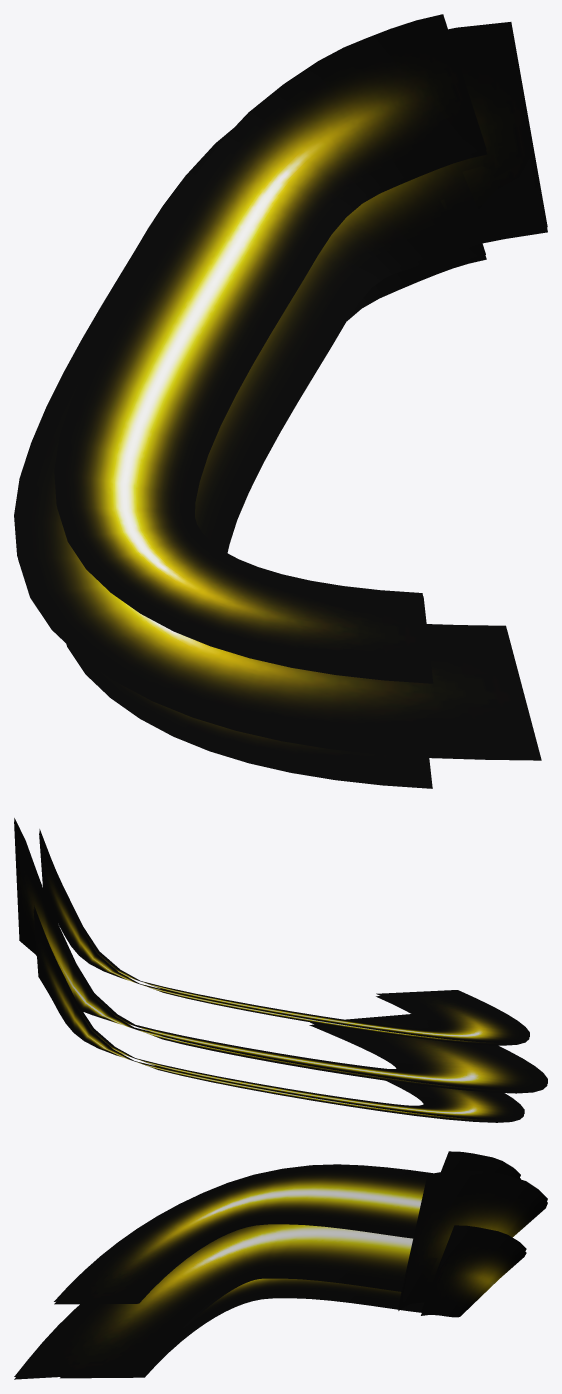
The model's file is effect_baihu_bb_1.FBX.
The picture shows the model from 3 angles, top to bottom: view 1: azimuth 30°, elevation 25°; view 2: azimuth 150°, elevation 25°; view 3: azimuth 270°, elevation 25°; orthographic projection. The views are drawn at different scales.
Parts seen in each view (by area): view 1: effect_baihu_2_2, effect_baihu_2_1, effect_baihu_2_3, effect_baihu_1_1, effect_baihu_1_2, effect_baihu_1_3; view 2: effect_baihu_2_1, effect_baihu_2_2, effect_baihu_1_1, effect_baihu_2_3, effect_baihu_1_3, effect_baihu_1_2; view 3: effect_baihu_2_1, effect_baihu_2_2, effect_baihu_1_1, effect_baihu_1_3, effect_baihu_2_3, effect_baihu_1_2.
Boxes of the visible parts, x1=… form: effect_baihu_2_2: x1=54, y1=14, x2=486, y2=680; effect_baihu_2_1: x1=14, y1=22, x2=547, y2=757; effect_baihu_2_3: x1=67, y1=243, x2=485, y2=785; effect_baihu_1_1: x1=18, y1=141, x2=547, y2=760; effect_baihu_1_2: x1=57, y1=150, x2=487, y2=683; effect_baihu_1_3: x1=66, y1=255, x2=486, y2=788; effect_baihu_2_1: x1=14, y1=818, x2=547, y2=1090; effect_baihu_2_2: x1=39, y1=829, x2=529, y2=1043; effect_baihu_1_1: x1=14, y1=821, x2=547, y2=1093; effect_baihu_2_3: x1=34, y1=905, x2=524, y2=1120; effect_baihu_1_3: x1=33, y1=909, x2=523, y2=1122; effect_baihu_1_2: x1=39, y1=832, x2=529, y2=1045; effect_baihu_2_1: x1=14, y1=1170, x2=547, y2=1376; effect_baihu_2_2: x1=54, y1=1151, x2=520, y2=1301; effect_baihu_1_1: x1=14, y1=1174, x2=547, y2=1379; effect_baihu_1_3: x1=60, y1=1229, x2=526, y2=1378; effect_baihu_2_3: x1=94, y1=1225, x2=526, y2=1375; effect_baihu_1_2: x1=54, y1=1155, x2=520, y2=1304.
Size of the model in its own units: 258 by 194 by 289.
Materials: 1 (1 with a texture image).
